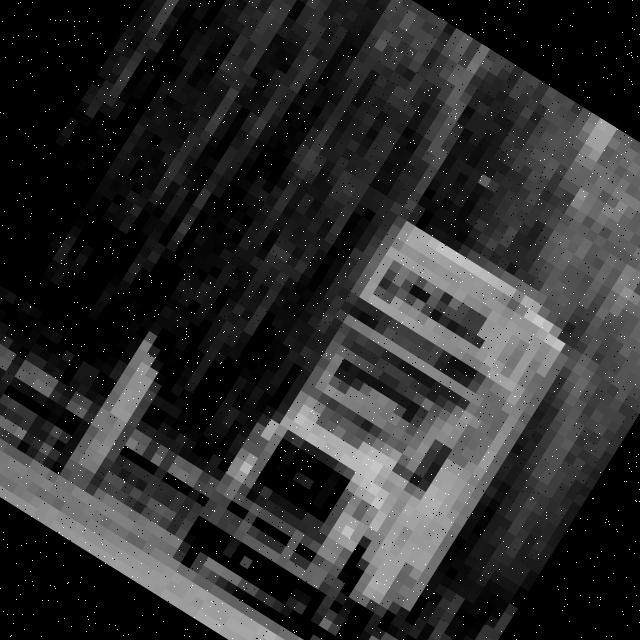trucks: (169, 208, 585, 640)
